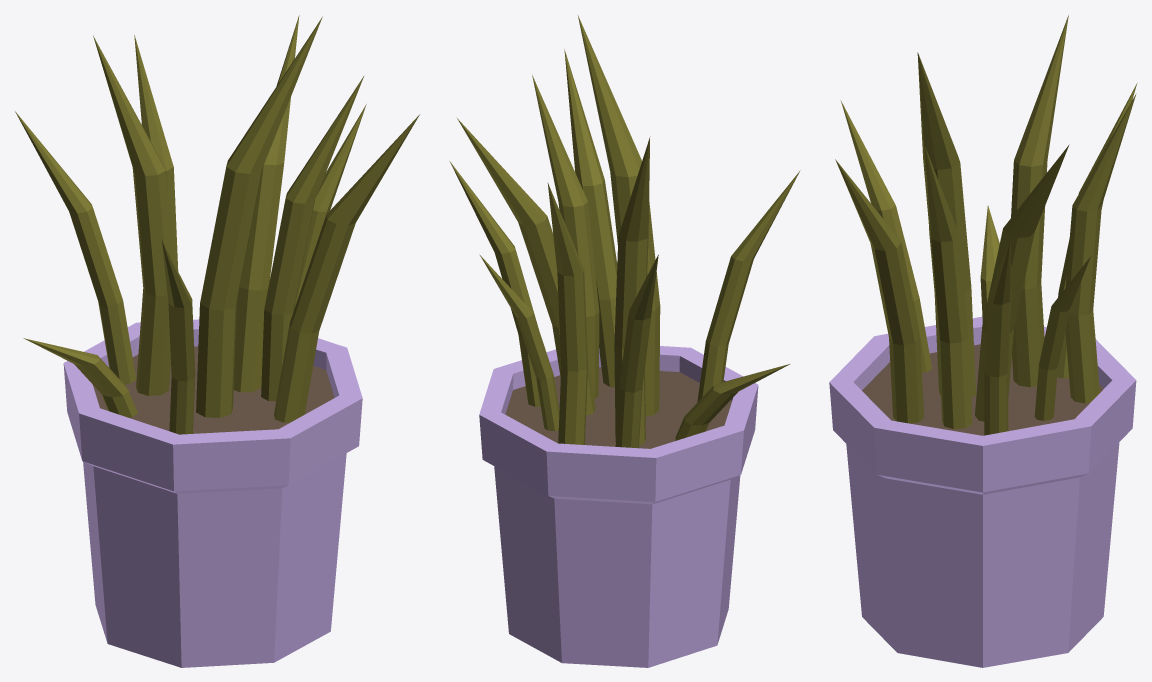
Rendered from Flower_56.fbx.
3 views of the same model, side by side, from view 1: azimuth 30°, elevation 25°; view 2: azimuth 150°, elevation 25°; view 3: azimuth 270°, elevation 25° (orthographic). The views are drawn at different scales.
Parts seen in each view (by area): view 1: Flower_56; view 2: Flower_56; view 3: Flower_56.
Part boxes in pixels (x1,y1,x2,y2): Flower_56: (15,15,419,667); Flower_56: (449,15,800,667); Flower_56: (829,15,1137,667).
Size of the model in its own units: 28.54 by 21.62 by 46.63.
